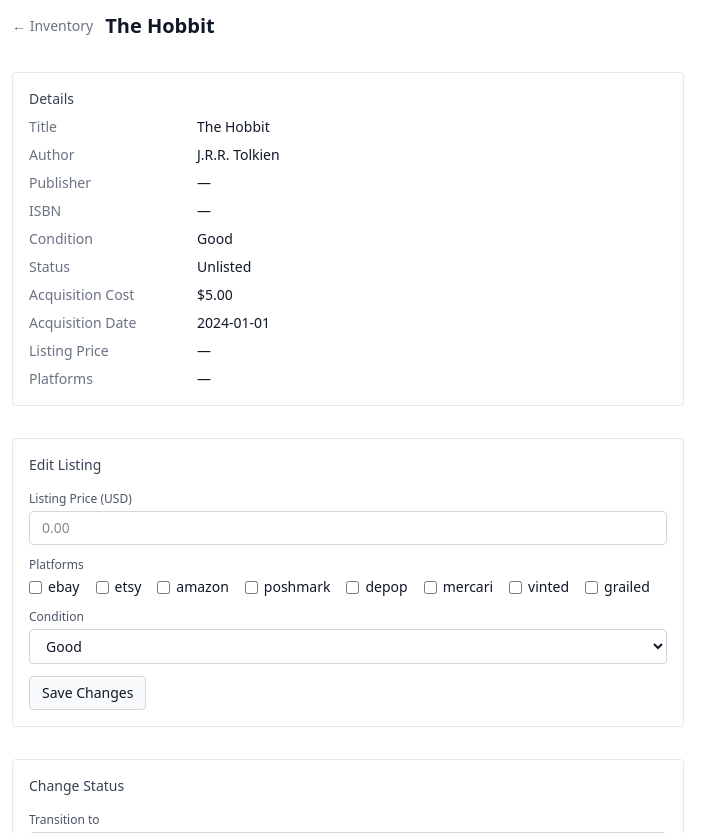
Test: ItemDetailPage — Edit Listing form › submits a PATCH with the price converted to cents, shows "Saved.", and updates the Details row
Check: the heading "The Hobbit" is shown, box [105, 12, 215, 40]
Type "19.99" into the number field with placeholder "0.00" at (348, 528), box [29, 511, 667, 545]
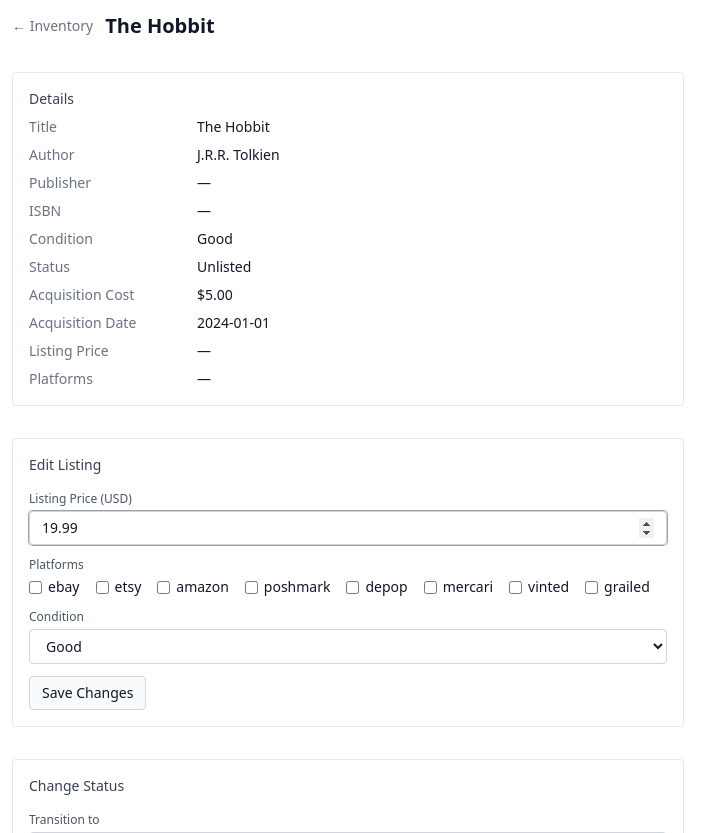
Click the button "Save Changes" at (88, 693), box [29, 676, 146, 710]
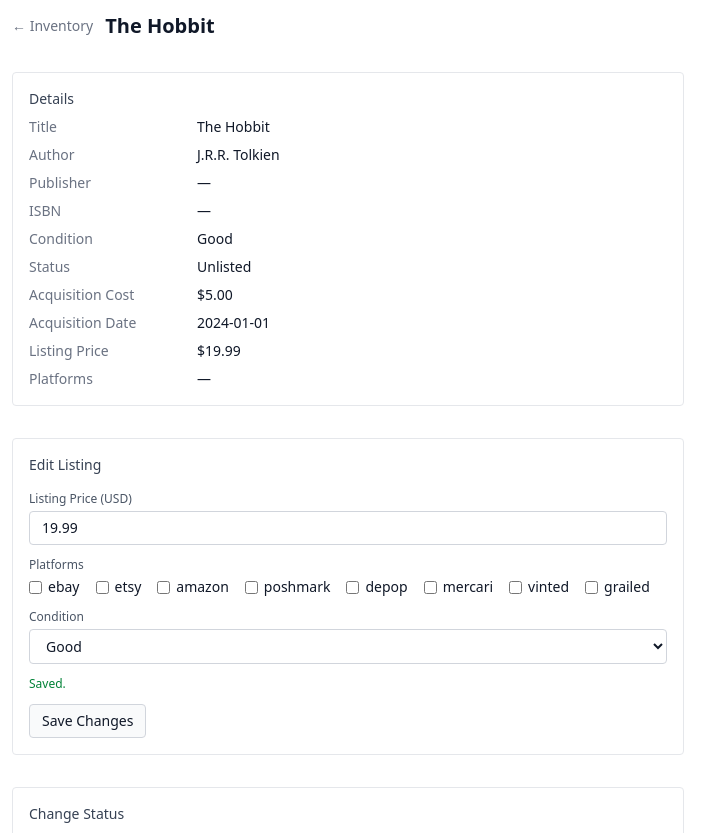
Check: the text "Saved." is shown, box [29, 675, 66, 692]
